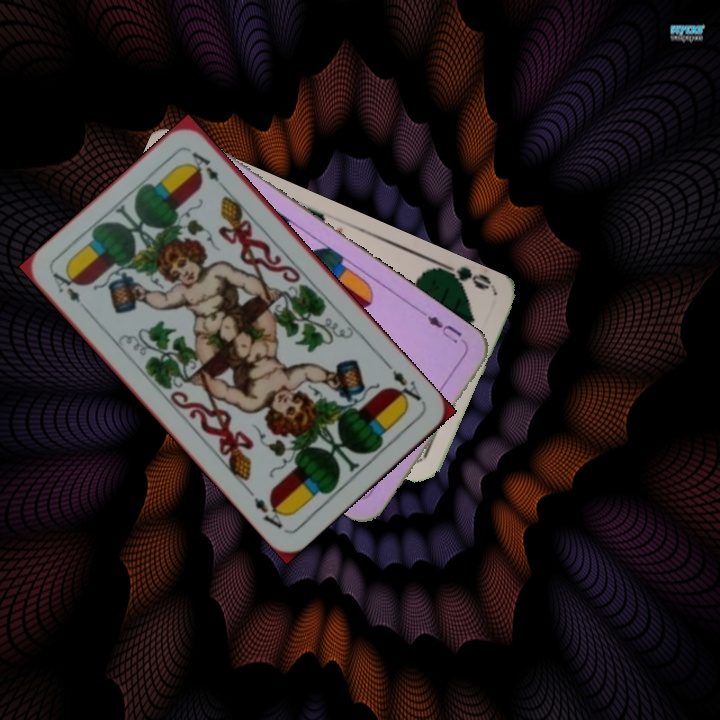EA: (48, 267, 93, 316), (382, 359, 424, 409)
EU: (418, 309, 470, 349)
GO: (436, 259, 494, 296)
